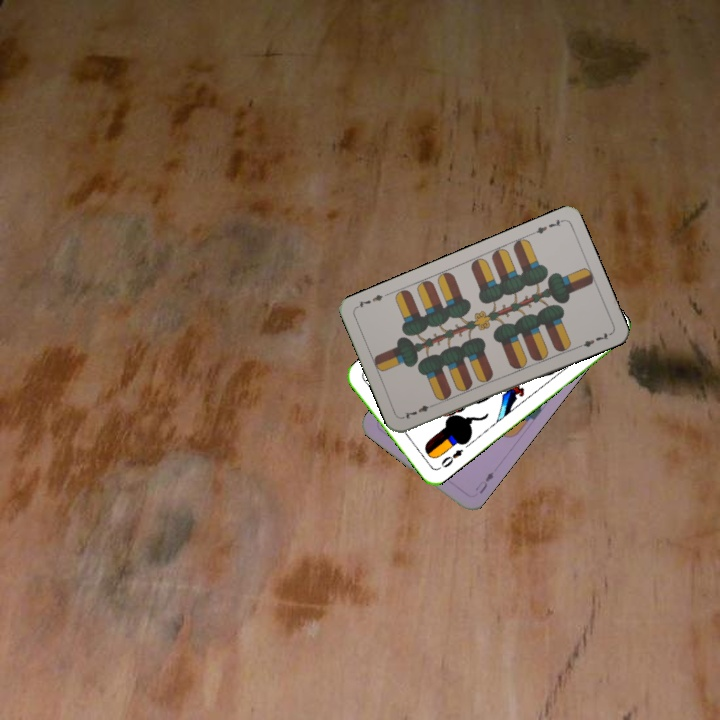E7: (527, 215, 566, 238), (399, 400, 438, 422)
EO: (434, 445, 466, 472)
EU: (471, 468, 496, 496)
